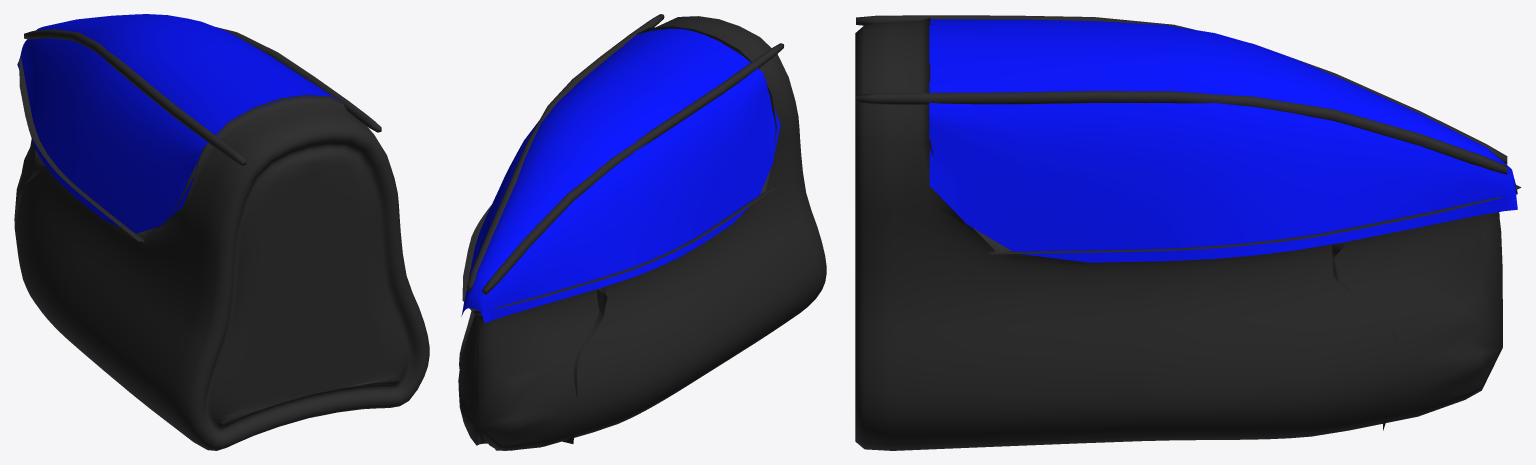
Rendered from Cockpit_02.FBX.
3 views of the same model, side by side, from view 1: azimuth 30°, elevation 25°; view 2: azimuth 150°, elevation 25°; view 3: azimuth 270°, elevation 25° (orthographic). The views are drawn at different scales.
Visible parts, largest first — view 1: Window; view 2: Window; view 3: Window.
Boxes of the visible parts, <box> form: Window: <box>14,14,429,450</box>; Window: <box>458,14,826,450</box>; Window: <box>855,15,1521,450</box>.
Size of the model in its own units: 81.02 by 95.93 by 157.
